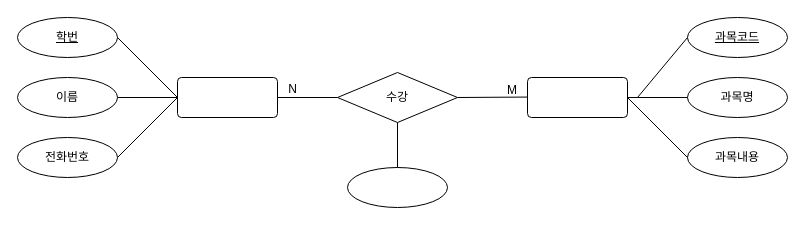
Some shapes in this 805 by 225 pixel diagram are drawn without their labels. Each missing label, with the centre of its shape:
과목: pixel 577 97
점수: pixel 397 187
학생: pixel 227 97
